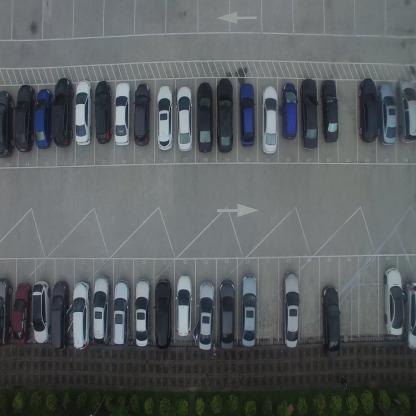car: (52, 77, 73, 148), (14, 83, 35, 154), (50, 278, 70, 352), (357, 77, 379, 144), (320, 286, 340, 358), (395, 78, 416, 146), (282, 270, 300, 349), (383, 266, 403, 336), (216, 77, 234, 154), (92, 275, 111, 347), (154, 277, 172, 352), (300, 77, 318, 152), (72, 280, 91, 351), (240, 274, 258, 348), (175, 84, 194, 154), (32, 279, 52, 345), (12, 280, 32, 346), (198, 280, 216, 352), (377, 82, 397, 146), (261, 83, 279, 154), (112, 278, 130, 349), (156, 83, 174, 153), (237, 82, 256, 148), (320, 78, 339, 144), (93, 79, 112, 145), (197, 80, 214, 153), (218, 278, 235, 350), (132, 83, 151, 146), (134, 278, 151, 348), (113, 82, 131, 148), (74, 79, 92, 145), (34, 87, 52, 150), (280, 81, 298, 140), (176, 274, 192, 338), (402, 282, 416, 352), (0, 89, 14, 159), (0, 276, 12, 348)
